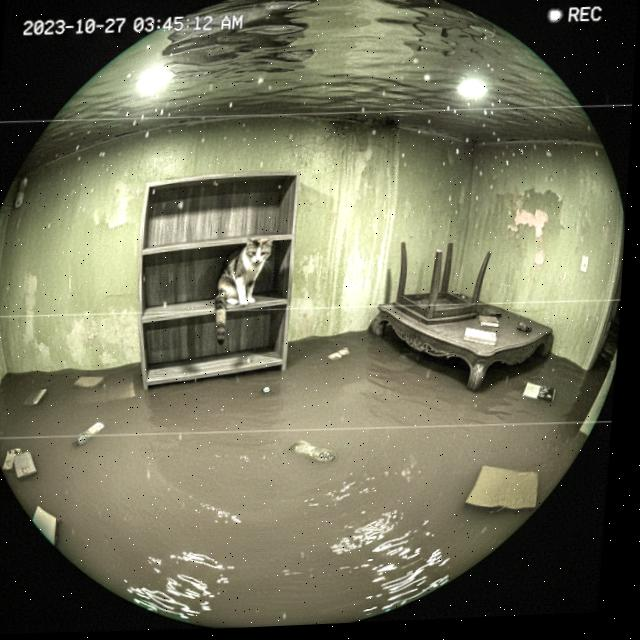cat: (200, 232, 286, 351)
